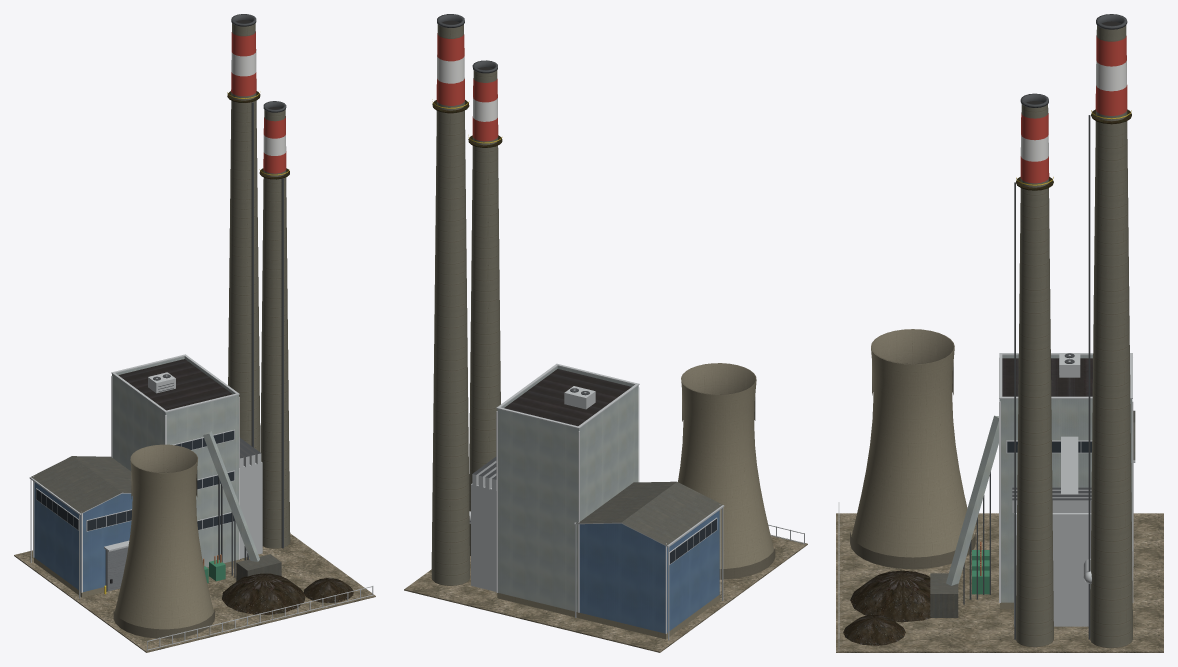
The model's file is coal_plant.glb.
3 renders of one model, left to right at view 1: azimuth 30°, elevation 25°; view 2: azimuth 150°, elevation 25°; view 3: azimuth 270°, elevation 25°, orthographic. The views are drawn at different scales.
Visible parts, largest first — view 1: coal_plant_body; view 2: coal_plant_body; view 3: coal_plant_body.
Part boxes in pixels (bbox=[...]): coal_plant_body: bbox=[14, 14, 375, 652]; coal_plant_body: bbox=[404, 14, 807, 652]; coal_plant_body: bbox=[836, 14, 1163, 652].
Size of the model in its own units: 0.94 by 1.96 by 0.94.
Materials: 25 (11 with a texture image).
